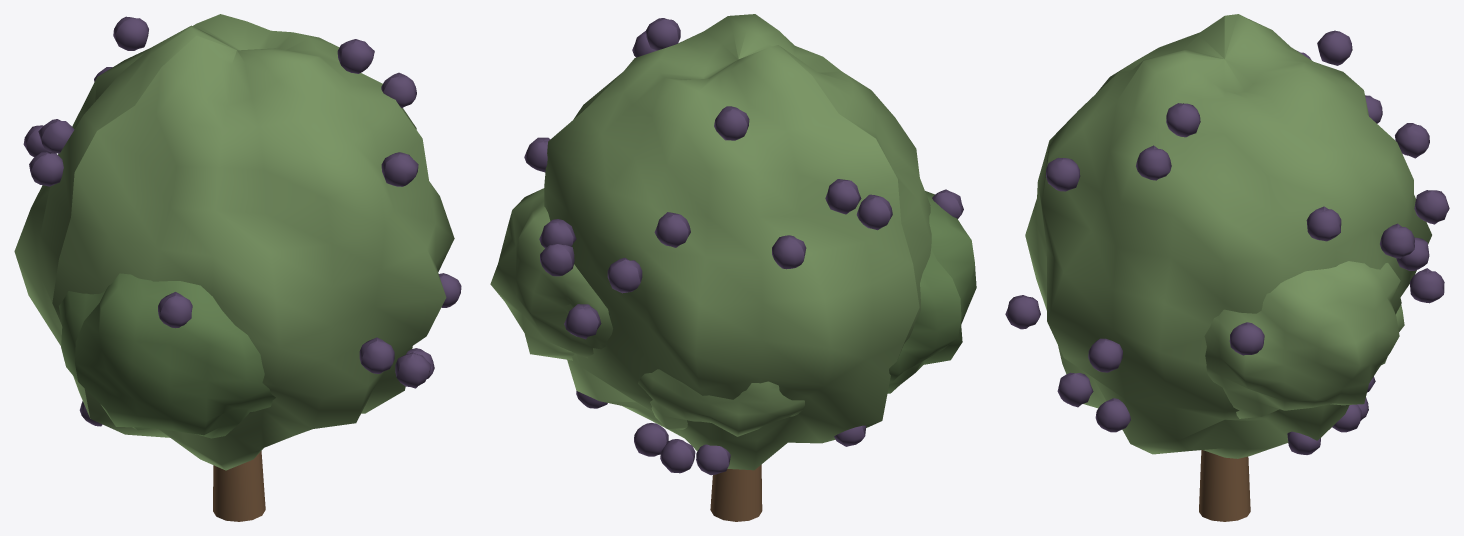
The model's file is szilva.glb.
3 renders of one model, left to right at view 1: azimuth 30°, elevation 25°; view 2: azimuth 150°, elevation 25°; view 3: azimuth 270°, elevation 25°, orthographic. The views are drawn at different scales.
Parts seen in each view (by area): view 1: korona-1, korona-2, torzs, termes-22, termes-20, termes-10, termes-21, termes-7, termes-5, termes-3, termes-23, termes-15 (+1 smaller); view 2: korona-1, korona-3, korona-2, korona-5, torzs, termes-25, termes-26, termes-18, termes-3, termes-15, termes-21, termes-6 (+8 smaller); view 3: korona-1, korona-3, torzs, termes-26, termes-7, termes-11, termes-21, termes-22, termes-25, termes-12, termes-23, termes-10 (+8 smaller).
Part boxes in pixels (bbox=[...]): korona-1: bbox=[14, 14, 454, 470]; korona-2: bbox=[59, 273, 275, 438]; torzs: bbox=[213, 451, 265, 521]; termes-22: bbox=[381, 152, 418, 186]; termes-20: bbox=[359, 337, 394, 373]; termes-10: bbox=[395, 352, 431, 388]; termes-21: bbox=[113, 16, 148, 50]; termes-7: bbox=[337, 39, 374, 73]; termes-5: bbox=[158, 292, 192, 328]; termes-3: bbox=[29, 152, 63, 186]; termes-23: bbox=[381, 72, 416, 108]; termes-15: bbox=[38, 119, 74, 153]; korona-1: bbox=[544, 14, 931, 470]; korona-3: bbox=[490, 188, 612, 360]; korona-2: bbox=[887, 191, 976, 393]; korona-5: bbox=[638, 369, 804, 436]; torzs: bbox=[710, 464, 762, 521]; termes-25: bbox=[607, 257, 642, 293]; termes-26: bbox=[564, 304, 601, 339]; termes-18: bbox=[654, 212, 690, 247]; termes-3: bbox=[856, 194, 892, 230]; termes-15: bbox=[825, 179, 861, 214]; termes-21: bbox=[714, 106, 749, 140]; termes-6: bbox=[660, 439, 695, 473]; korona-1: bbox=[1025, 14, 1431, 458]; korona-3: bbox=[1204, 261, 1401, 418]; torzs: bbox=[1199, 450, 1250, 521]; termes-26: bbox=[1409, 268, 1444, 303]; termes-7: bbox=[1166, 103, 1200, 137]; termes-11: bbox=[1306, 206, 1341, 241]; termes-21: bbox=[1317, 30, 1352, 65]; termes-22: bbox=[1046, 157, 1080, 191]; termes-25: bbox=[1414, 190, 1449, 224]; termes-12: bbox=[1088, 338, 1122, 372]; termes-23: bbox=[1136, 145, 1171, 180]; termes-10: bbox=[1057, 372, 1093, 407].
Bounding box in the file's own units: 5.64 × 6.62 × 5.57.
